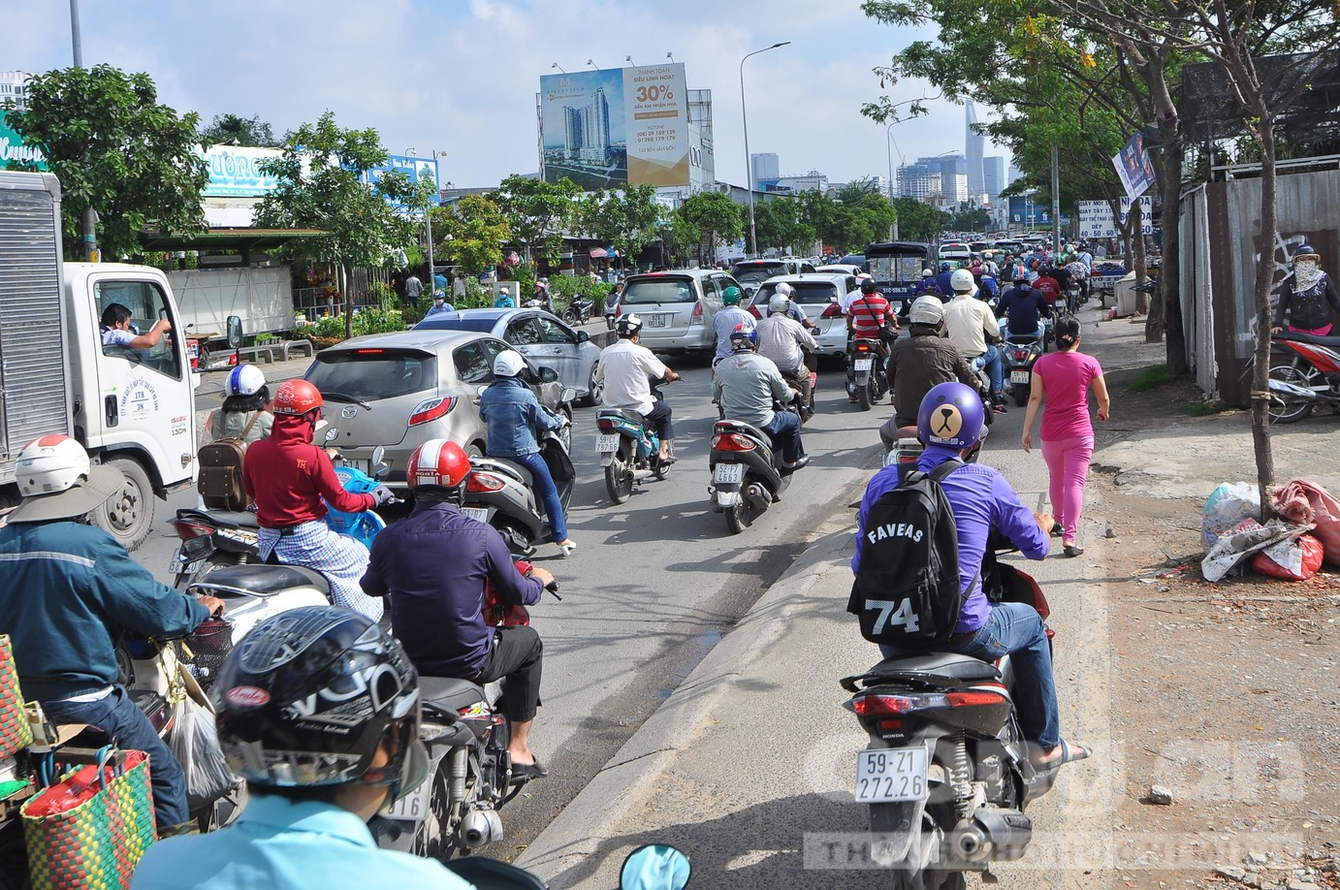Bien-so: (854, 750, 927, 808), (374, 776, 431, 821), (711, 461, 740, 484), (594, 433, 620, 455), (461, 504, 488, 523), (852, 356, 872, 371), (1012, 369, 1030, 385)
